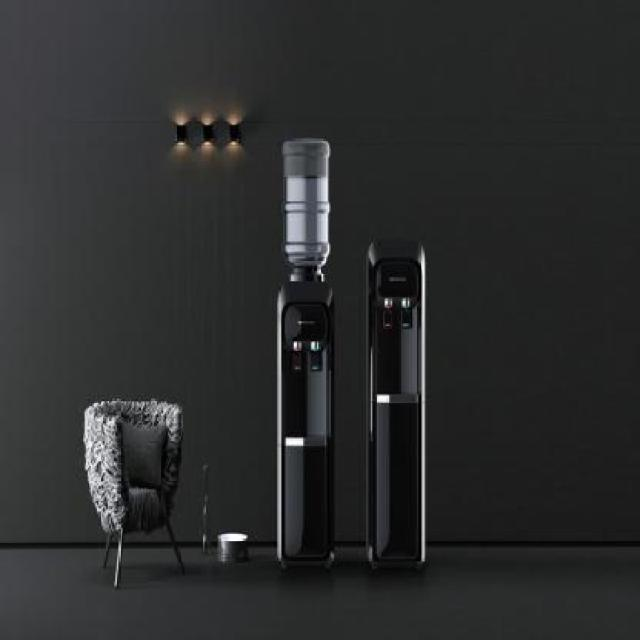cooler: (278, 138, 338, 570), (365, 230, 429, 578)
